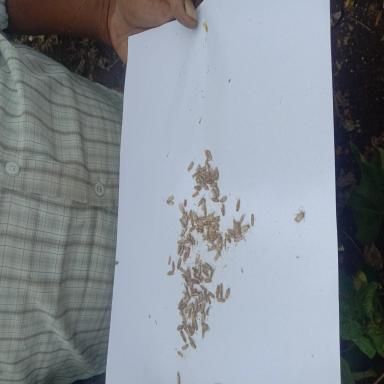pbw: (206, 149, 214, 162), (224, 287, 232, 300), (192, 314, 198, 331), (177, 296, 184, 310), (186, 322, 193, 336), (176, 370, 183, 384), (181, 274, 189, 286), (204, 278, 214, 287), (180, 329, 186, 344), (183, 327, 192, 337), (185, 301, 193, 312), (180, 226, 188, 237), (187, 160, 194, 172), (192, 301, 197, 317), (210, 187, 217, 198), (224, 232, 231, 243), (235, 196, 240, 211), (200, 182, 209, 190), (187, 208, 193, 220), (201, 263, 208, 273), (226, 228, 236, 235), (213, 251, 220, 261), (201, 197, 206, 211), (197, 197, 204, 207), (192, 210, 199, 220), (178, 204, 185, 214), (206, 292, 211, 306), (176, 257, 181, 270), (212, 215, 220, 223), (192, 189, 200, 197), (188, 224, 196, 232), (179, 302, 187, 310), (201, 322, 208, 331), (191, 290, 200, 297), (207, 245, 216, 252), (218, 283, 222, 298), (196, 303, 202, 313), (200, 302, 205, 314), (210, 266, 215, 278), (187, 308, 192, 320), (214, 166, 219, 178), (179, 218, 185, 228), (186, 266, 191, 278), (202, 292, 207, 304), (206, 238, 214, 245), (250, 213, 254, 227), (197, 214, 205, 221), (234, 234, 241, 242), (192, 171, 200, 178), (208, 291, 215, 299), (199, 172, 207, 179), (198, 296, 205, 304), (186, 247, 191, 258), (216, 297, 225, 303), (181, 210, 187, 219), (210, 230, 216, 239), (189, 277, 193, 290), (220, 203, 224, 216), (191, 320, 195, 333), (195, 254, 200, 264), (184, 295, 189, 305), (239, 214, 244, 224), (181, 312, 186, 322), (200, 285, 207, 292), (179, 266, 186, 273), (202, 170, 209, 177), (215, 284, 219, 296), (192, 278, 200, 284), (205, 262, 211, 270), (177, 350, 183, 358), (200, 311, 204, 323), (196, 228, 204, 234), (166, 196, 174, 202), (232, 216, 236, 228), (205, 306, 211, 314), (208, 226, 212, 238), (190, 214, 194, 226), (201, 328, 205, 340), (185, 238, 193, 244), (202, 269, 208, 277), (176, 325, 184, 331), (186, 234, 192, 242), (195, 276, 201, 284), (211, 197, 220, 202), (203, 149, 208, 158), (191, 235, 195, 246), (216, 186, 220, 197), (180, 245, 184, 256), (184, 215, 188, 226), (167, 270, 174, 276), (200, 166, 207, 172), (220, 196, 226, 203), (212, 224, 218, 231), (190, 286, 197, 292), (196, 274, 203, 280), (194, 297, 197, 311), (183, 252, 187, 262), (196, 222, 204, 227), (204, 220, 212, 225), (213, 232, 218, 240), (184, 283, 188, 293), (195, 173, 200, 181), (206, 179, 214, 184), (182, 321, 187, 329), (206, 228, 210, 238), (198, 262, 201, 275), (192, 266, 198, 272), (204, 158, 208, 167), (198, 176, 204, 182), (211, 222, 217, 228), (182, 344, 188, 350), (202, 233, 208, 239), (186, 269, 189, 281), (209, 168, 214, 175), (197, 225, 204, 230), (184, 198, 188, 206), (209, 182, 217, 186), (168, 256, 172, 264), (200, 290, 204, 298), (177, 245, 180, 255), (207, 163, 210, 173), (178, 239, 184, 244), (183, 245, 188, 251), (180, 242, 185, 248), (195, 166, 200, 172), (196, 180, 201, 186), (215, 247, 222, 251), (206, 216, 213, 220), (220, 234, 222, 248), (223, 238, 226, 247), (188, 337, 193, 342), (182, 291, 188, 295), (194, 218, 198, 224), (167, 202, 173, 206), (207, 176, 211, 182), (218, 233, 220, 245), (204, 207, 206, 218), (211, 176, 217, 179), (172, 261, 174, 270), (193, 271, 196, 277), (224, 242, 226, 250)
